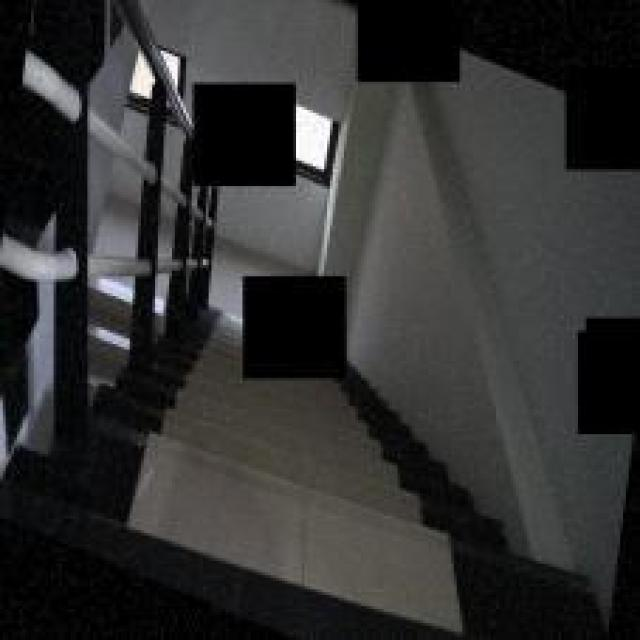downstair: (162, 390, 511, 638)
